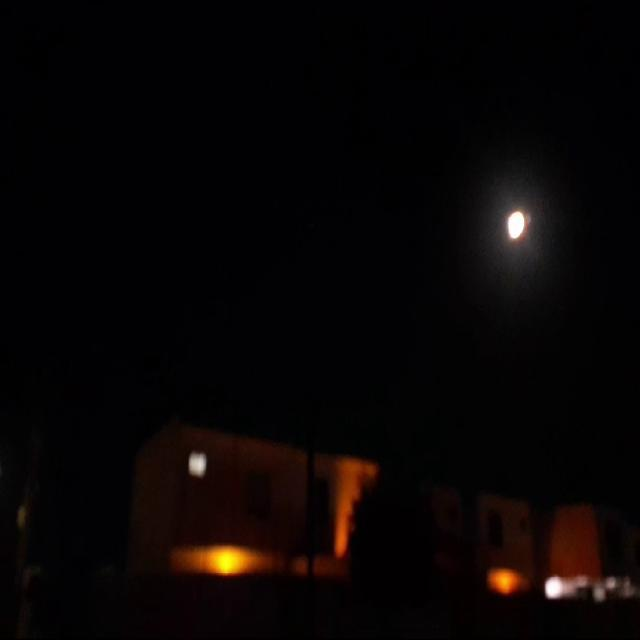moon: (500, 203, 523, 237)
